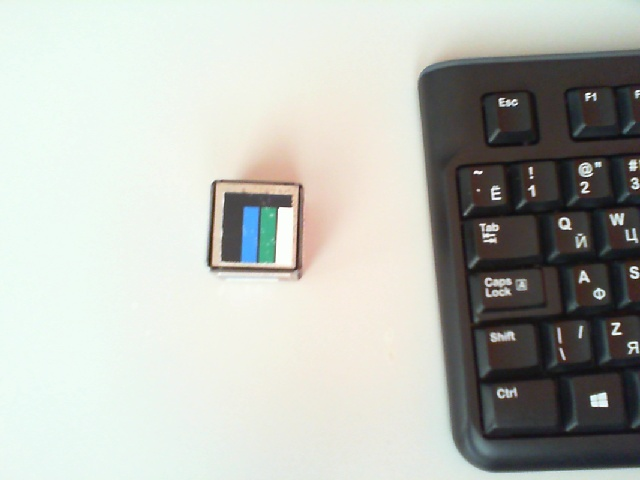square: (222, 193, 292, 264)
